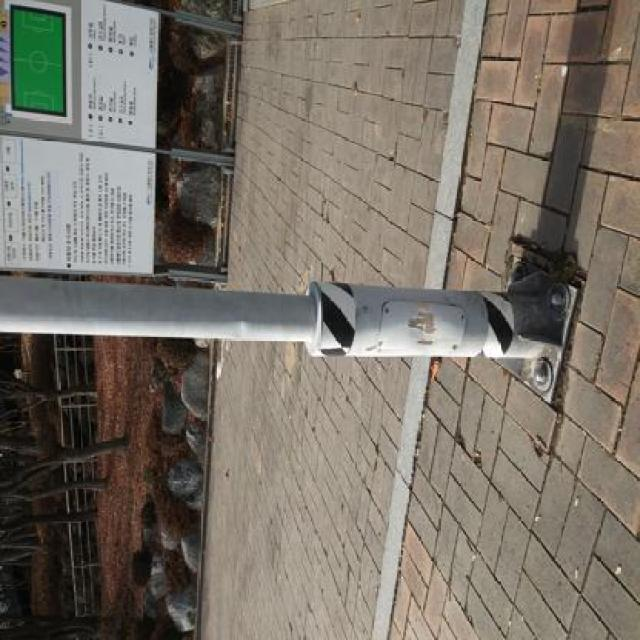pole: (0, 243, 571, 394)
